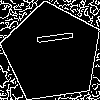I: (27, 28, 74, 49)
